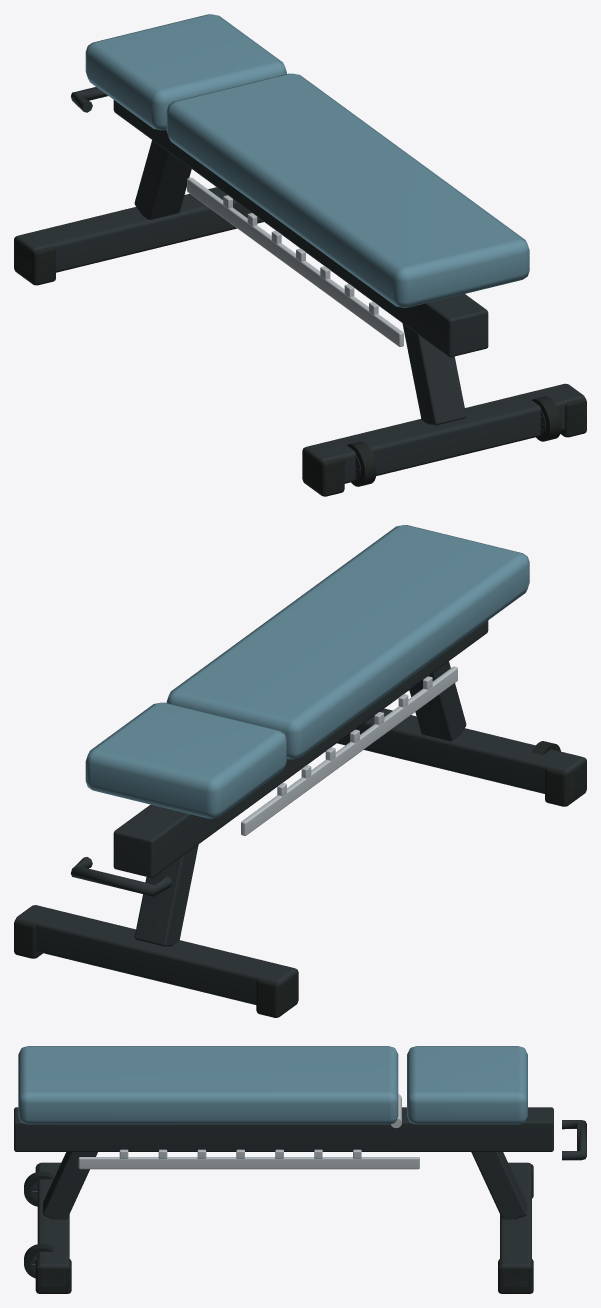
File: adjustable-weight-bench.glb
3 views of the same model, one above another, from view 1: azimuth 30°, elevation 25°; view 2: azimuth 150°, elevation 25°; view 3: azimuth 270°, elevation 25° (orthographic). The views are drawn at different scales.
Parts seen in each view (by area): view 1: catalog_surface_RealismUV, catalog_surface_UVMap; view 2: catalog_surface_RealismUV, catalog_surface_UVMap; view 3: catalog_surface_RealismUV, catalog_surface_UVMap.
Part boxes in pixels (box(x1,y1,x2,y2)): catalog_surface_RealismUV: box(14, 14, 586, 496); catalog_surface_UVMap: box(15, 87, 584, 483); catalog_surface_RealismUV: box(14, 525, 586, 1017); catalog_surface_UVMap: box(15, 620, 585, 1004); catalog_surface_RealismUV: box(18, 1046, 533, 1293); catalog_surface_UVMap: box(14, 1107, 586, 1286).
Size of the model in its own units: 0.6 by 0.47 by 1.4.
